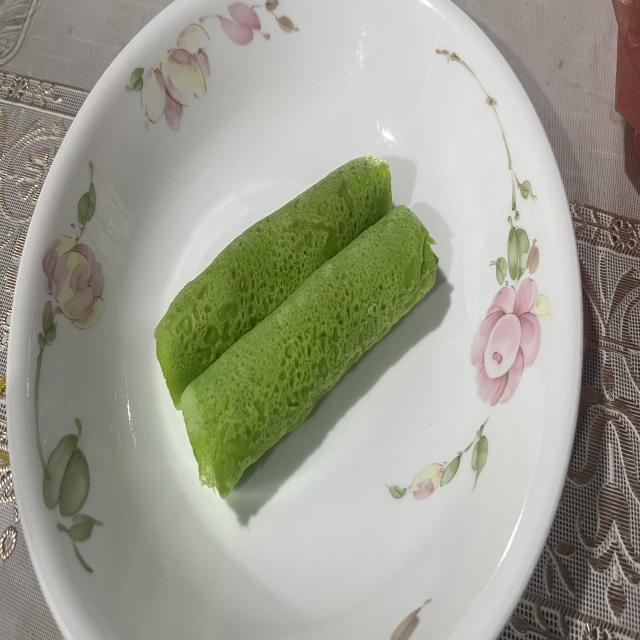Kuih-Ketayap: (181, 204, 438, 498), (155, 156, 391, 409)
